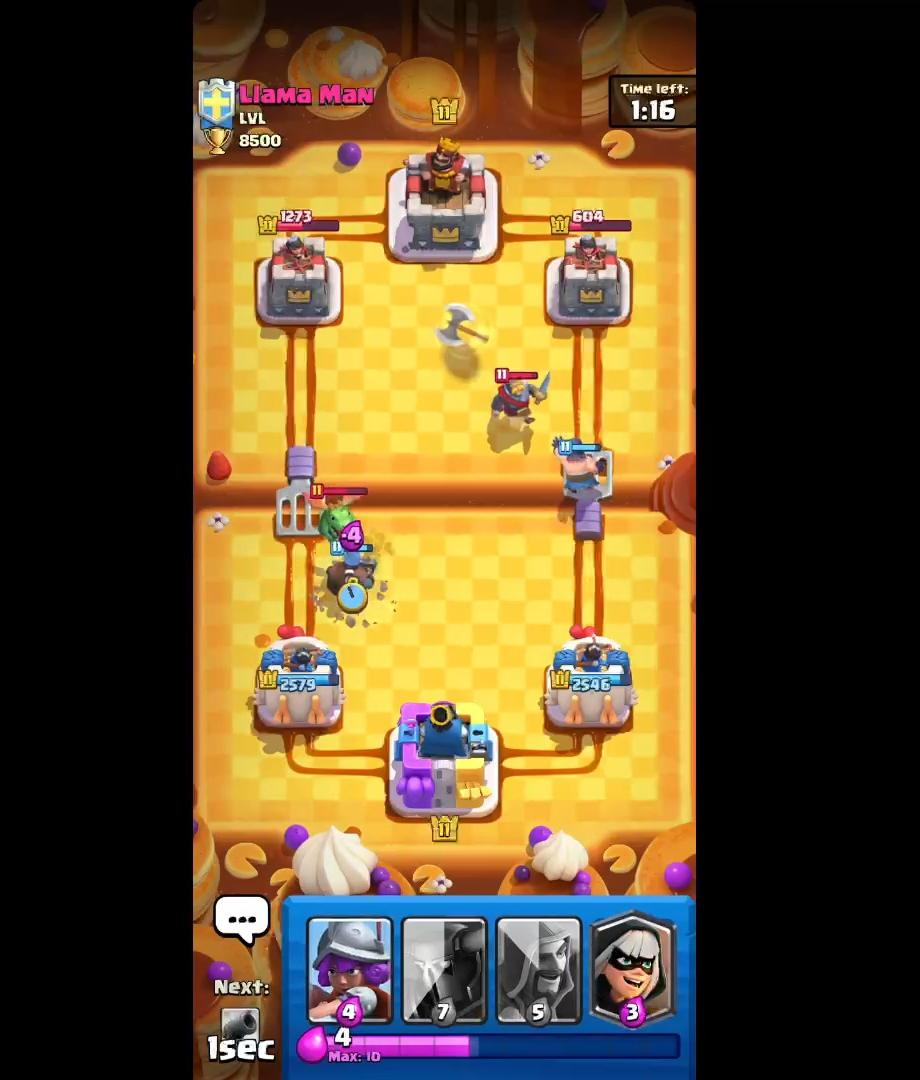Baby Dragon: (308, 483, 367, 539)
Knight: (489, 365, 553, 438)
